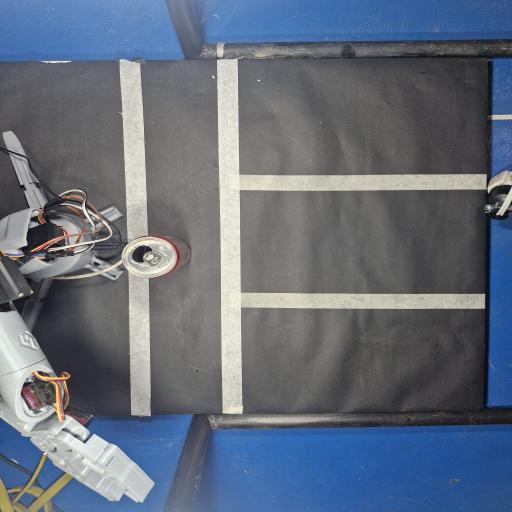lata: (122, 236, 190, 277)
